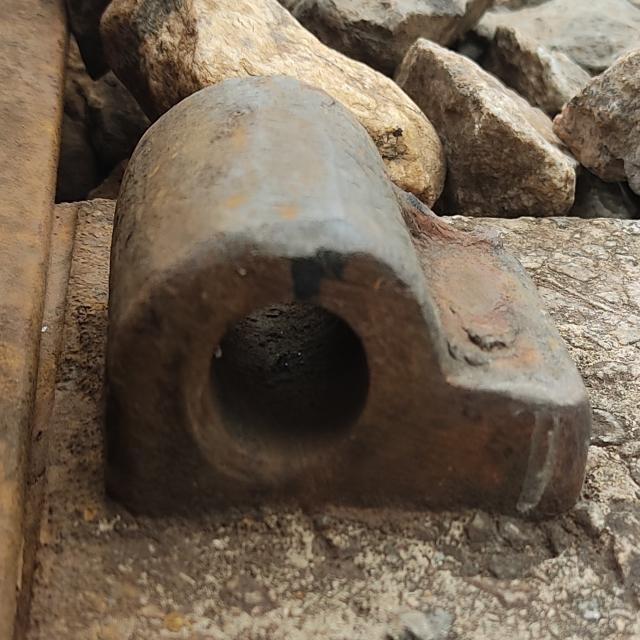track_bolt_missing: (92, 68, 444, 480)
